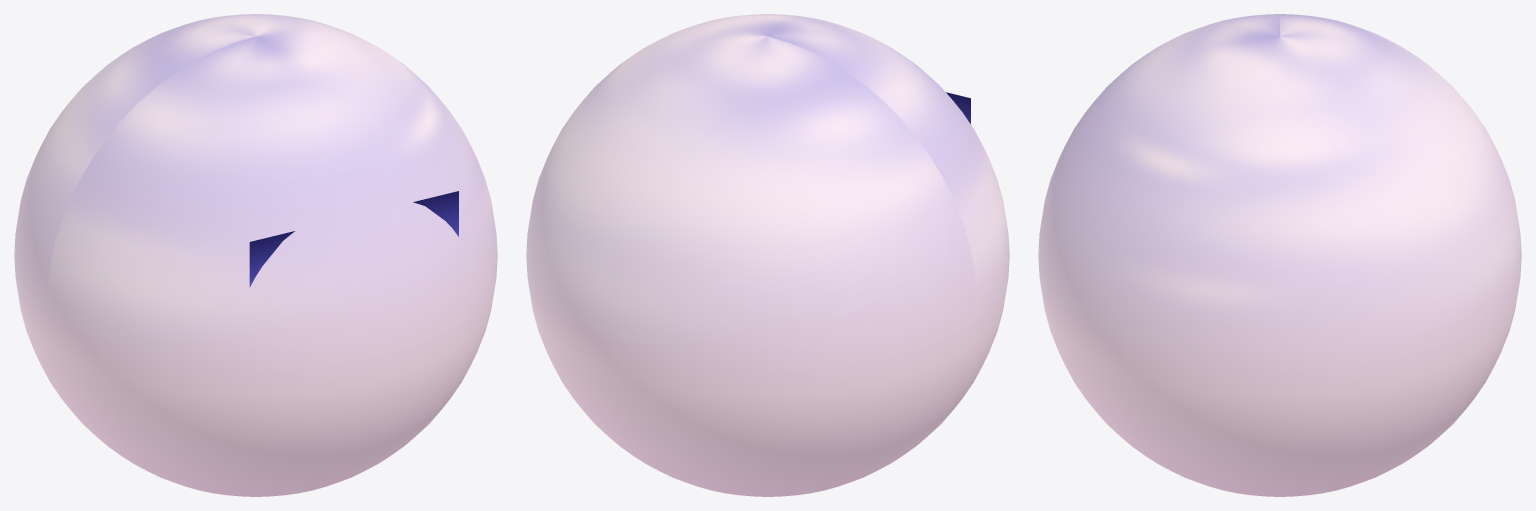
3 renders of one model, left to right at view 1: azimuth 30°, elevation 25°; view 2: azimuth 150°, elevation 25°; view 3: azimuth 270°, elevation 25°, orthographic.
Visible parts, largest first — view 1: My_Digital_Museum_Courtyard; view 2: My_Digital_Museum_Courtyard; view 3: My_Digital_Museum_Courtyard.
Boxes of the visible parts, box(x1,y1,x2,y2) form: My_Digital_Museum_Courtyard: box(14, 14, 497, 496); My_Digital_Museum_Courtyard: box(526, 14, 1009, 496); My_Digital_Museum_Courtyard: box(1038, 14, 1521, 496).
Bounding box in the file's own units: 32 × 32 × 32.
Materials: 26 (3 with a texture image).
